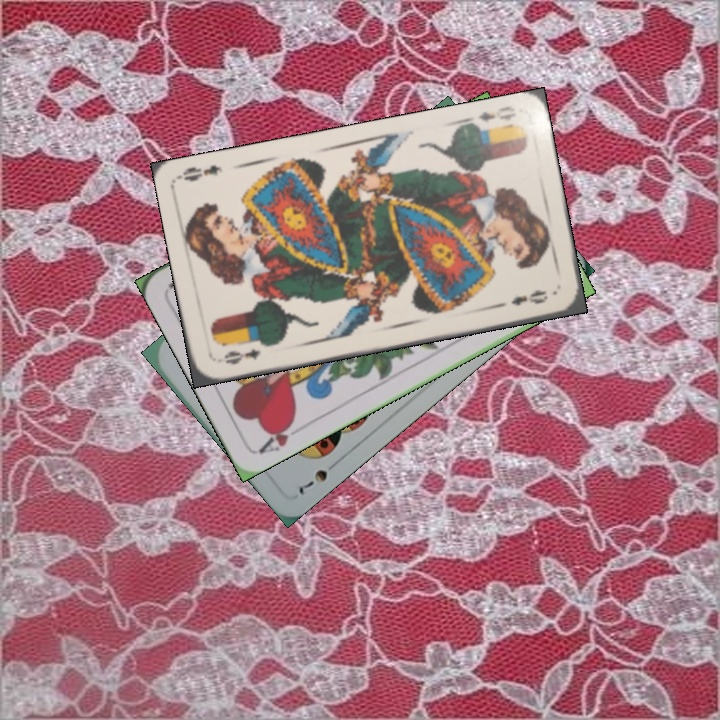EO: (463, 102, 518, 134), (220, 345, 264, 368)
HA: (254, 414, 309, 457)
S7: (294, 456, 342, 498)
